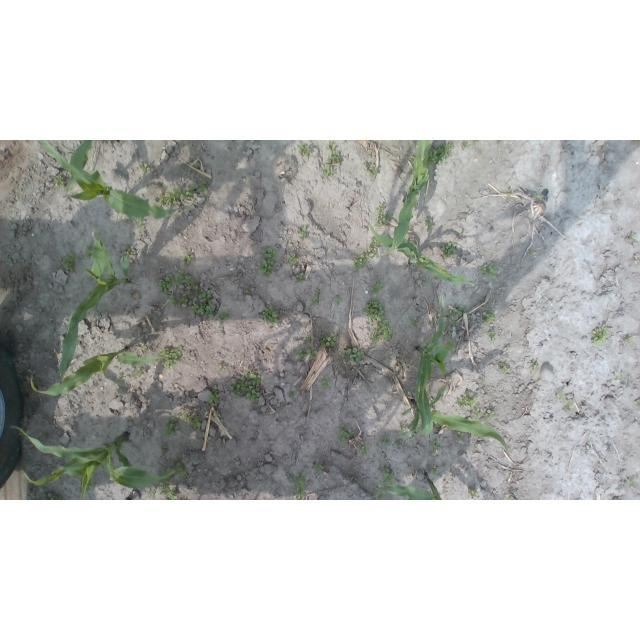Maize: (10, 425, 175, 500), (39, 140, 190, 218), (59, 232, 130, 384), (403, 385, 510, 453), (364, 219, 474, 285), (30, 348, 158, 397), (382, 140, 431, 258), (415, 295, 455, 437), (379, 470, 442, 500)
Weeds: (229, 373, 262, 406), (152, 188, 185, 207), (428, 142, 453, 166), (158, 346, 182, 370), (259, 247, 277, 277), (363, 299, 385, 321), (175, 270, 199, 290), (61, 252, 81, 275), (181, 408, 202, 429), (262, 306, 281, 327), (160, 478, 177, 500), (326, 142, 342, 165), (189, 303, 215, 317), (456, 392, 477, 409), (479, 262, 497, 281), (449, 304, 466, 324), (376, 320, 392, 341), (592, 325, 608, 346), (344, 348, 364, 364), (171, 293, 193, 307), (353, 253, 372, 269), (296, 348, 319, 361), (157, 276, 175, 292), (369, 236, 382, 258), (163, 416, 177, 436), (379, 468, 395, 485), (295, 473, 305, 500), (440, 242, 456, 258), (176, 460, 188, 479), (375, 204, 385, 226), (319, 334, 337, 346), (207, 389, 221, 404), (337, 425, 349, 442), (34, 493, 62, 500), (483, 311, 495, 325), (372, 279, 384, 293), (135, 218, 146, 233), (200, 292, 212, 305), (299, 144, 312, 156), (182, 252, 195, 264), (197, 179, 208, 193), (313, 463, 326, 474), (123, 246, 134, 259), (380, 437, 393, 448), (297, 226, 307, 240), (288, 252, 299, 264), (409, 316, 419, 329), (55, 175, 65, 188), (84, 244, 92, 260), (186, 184, 195, 197), (133, 368, 144, 378), (321, 379, 332, 389), (371, 164, 380, 176), (625, 476, 637, 485), (162, 468, 174, 477), (219, 311, 229, 321), (488, 331, 497, 342), (376, 492, 387, 501), (628, 233, 637, 244), (360, 443, 368, 455), (530, 361, 539, 371), (500, 364, 510, 373), (468, 488, 478, 497), (563, 400, 572, 410), (424, 220, 434, 229), (322, 166, 331, 176), (296, 273, 305, 283), (139, 164, 149, 173), (310, 298, 319, 308), (336, 295, 345, 305), (384, 212, 392, 223), (371, 332, 380, 341), (486, 410, 494, 419), (304, 335, 316, 341), (402, 433, 412, 440), (462, 140, 470, 148), (558, 391, 565, 400), (624, 337, 633, 344), (506, 189, 512, 199), (536, 194, 544, 201), (88, 483, 96, 490), (503, 495, 514, 500), (474, 412, 481, 419), (615, 374, 622, 381), (349, 431, 356, 438), (432, 444, 440, 450), (457, 432, 463, 440), (431, 467, 437, 474), (400, 426, 407, 432), (423, 279, 431, 284), (409, 155, 415, 161), (289, 392, 296, 397), (497, 141, 504, 146), (243, 288, 249, 293), (529, 251, 535, 256), (448, 332, 453, 337), (288, 476, 293, 481), (472, 140, 477, 145), (152, 490, 156, 496), (479, 379, 485, 383), (368, 152, 372, 157), (364, 163, 369, 167), (220, 368, 225, 372), (116, 376, 120, 381), (251, 141, 257, 144), (315, 291, 321, 294), (396, 440, 400, 444)
